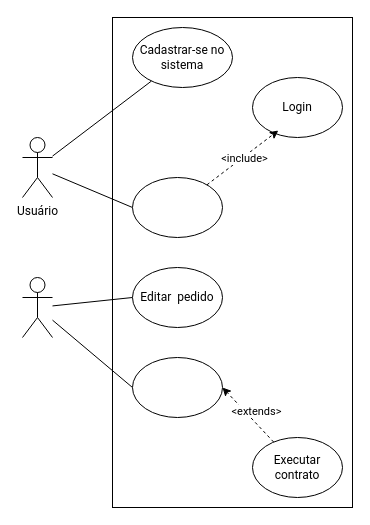
Image size: 370x525. Some labels were removed from this diagram. The centre of each missing label's shape, as x and y in pixels:
"Agente" goes at (37,307).
"Avaliar pedido" goes at (177,387).
"Gerenciar pedido" goes at (177,207).
